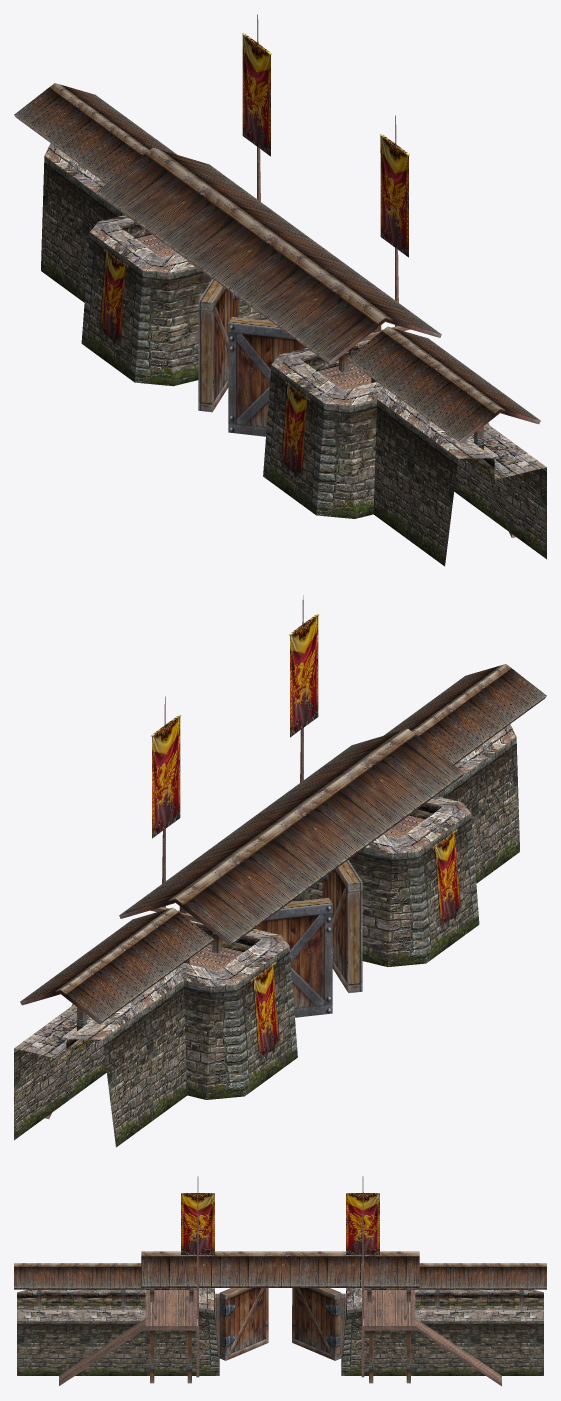
Rendered from m_wall3.glb.
3 renders of one model, top to bottom at view 1: azimuth 30°, elevation 25°; view 2: azimuth 150°, elevation 25°; view 3: azimuth 270°, elevation 25°, orthographic. The views are drawn at different scales.
Parts seen in each view (by area): view 1: m_wall3; view 2: m_wall3; view 3: m_wall3.
Part boxes in pixels (box(x1,y1,x2,y2)): m_wall3: box(14, 14, 546, 566); m_wall3: box(14, 595, 546, 1147); m_wall3: box(14, 1176, 546, 1386).
Size of the model in its own units: 7.4 by 15.4 by 36.8.
Materials: 11 (11 with a texture image).
